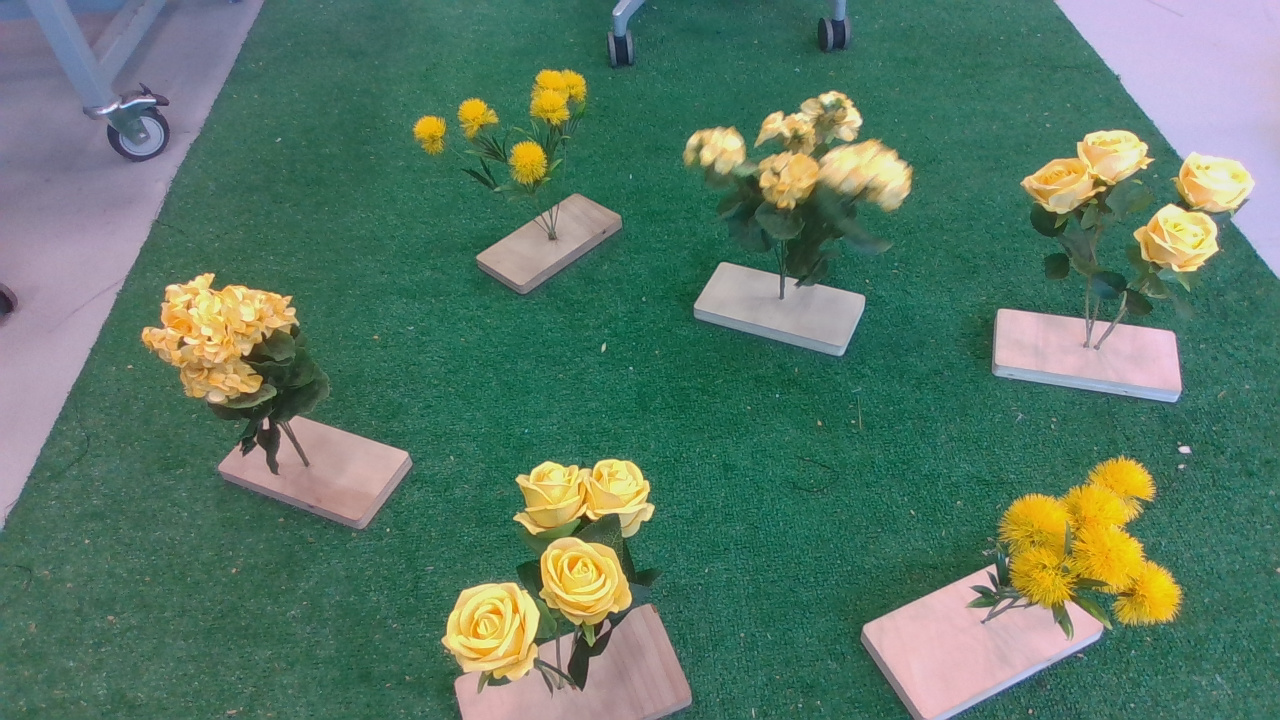dandelion: (969, 454, 1192, 631), (408, 66, 609, 200)
geranium: (682, 89, 923, 289), (132, 265, 344, 472)
rose: (440, 457, 677, 704), (1016, 126, 1265, 321)
